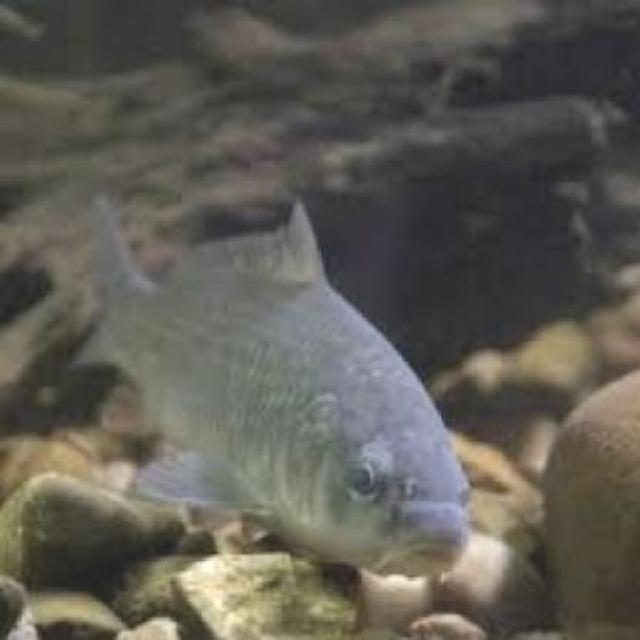ikan-mas: (80, 205, 483, 582)
